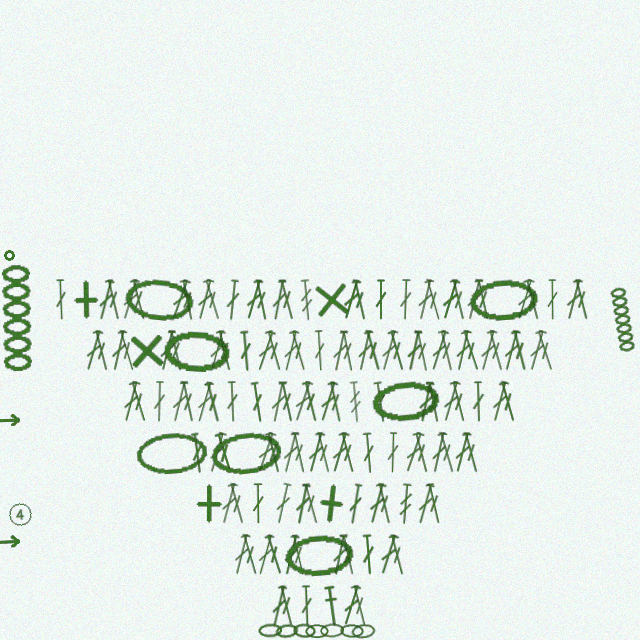chain: (209, 429, 283, 477), (123, 276, 196, 323), (135, 430, 209, 476), (370, 378, 442, 425), (283, 532, 356, 578), (468, 277, 540, 322), (162, 329, 232, 373), (351, 623, 376, 639), (275, 623, 299, 639), (258, 623, 282, 638), (320, 623, 344, 638), (293, 623, 316, 638), (305, 624, 329, 638), (340, 624, 364, 638)
double: (253, 431, 279, 474), (401, 431, 427, 474), (290, 380, 316, 423), (458, 329, 484, 372), (532, 329, 558, 372), (167, 278, 193, 321), (339, 584, 364, 627), (376, 533, 401, 576), (212, 431, 237, 474), (126, 380, 151, 423), (81, 329, 106, 372), (118, 278, 143, 321), (200, 278, 225, 321), (339, 278, 364, 321), (438, 278, 463, 321), (253, 330, 278, 372), (238, 533, 262, 576), (262, 533, 286, 576), (217, 482, 241, 525), (225, 482, 249, 525), (299, 482, 323, 525), (365, 482, 389, 525), (205, 431, 229, 474), (304, 431, 328, 474), (328, 431, 352, 474), (435, 431, 459, 474), (459, 431, 483, 474), (119, 380, 143, 423), (316, 380, 340, 423), (439, 380, 463, 423), (488, 380, 512, 423), (496, 380, 520, 423), (115, 329, 139, 372), (262, 329, 286, 372), (361, 329, 385, 372), (377, 329, 401, 372), (385, 329, 409, 372), (427, 329, 451, 372), (476, 329, 500, 372), (484, 329, 508, 372), (525, 329, 549, 372), (193, 278, 217, 321), (242, 278, 266, 321), (275, 278, 299, 321), (513, 278, 537, 321), (562, 278, 586, 321), (275, 584, 298, 627), (348, 584, 371, 627), (230, 533, 253, 576), (373, 482, 396, 525), (262, 431, 285, 474), (279, 431, 302, 474), (312, 431, 335, 474), (336, 431, 359, 474), (410, 431, 433, 474), (451, 431, 474, 474), (168, 380, 191, 423), (299, 380, 322, 423), (447, 380, 470, 423), (90, 329, 113, 372), (156, 329, 179, 372), (213, 329, 236, 372), (287, 329, 310, 372), (435, 329, 458, 372), (500, 329, 523, 372), (508, 329, 531, 372), (102, 278, 125, 321), (127, 278, 150, 321), (414, 278, 437, 321), (447, 278, 470, 321), (463, 278, 486, 321), (521, 278, 544, 321), (570, 278, 593, 321), (254, 534, 277, 576), (414, 483, 437, 525), (193, 381, 216, 423), (422, 279, 445, 321), (337, 533, 359, 576), (272, 482, 294, 525), (423, 482, 445, 525), (288, 431, 310, 474), (428, 431, 450, 474), (177, 380, 199, 423), (276, 380, 298, 423), (108, 329, 130, 372), (165, 329, 187, 372), (354, 329, 376, 372), (403, 329, 425, 372), (452, 329, 474, 372), (472, 278, 494, 321), (268, 585, 290, 627), (280, 534, 302, 576), (386, 534, 408, 576), (202, 381, 224, 423), (415, 381, 437, 423), (206, 330, 228, 372), (280, 330, 302, 372), (329, 330, 351, 372), (411, 330, 433, 372), (95, 279, 117, 321), (288, 534, 309, 576), (329, 534, 350, 576), (292, 483, 313, 525), (268, 381, 289, 423), (325, 381, 346, 423), (423, 381, 444, 423), (337, 330, 358, 372), (177, 279, 198, 321), (251, 279, 272, 321), (349, 279, 370, 321), (269, 279, 289, 321), (346, 483, 365, 525), (248, 381, 267, 423), (371, 381, 390, 423), (188, 432, 206, 474), (224, 279, 242, 321), (360, 432, 377, 474), (237, 330, 254, 372), (360, 534, 377, 575), (299, 585, 314, 626), (152, 381, 167, 422), (225, 381, 240, 422), (471, 381, 486, 422), (312, 330, 327, 371), (398, 279, 413, 320), (251, 483, 265, 524), (386, 432, 400, 473), (54, 279, 68, 320), (374, 279, 388, 320), (546, 279, 559, 320)
enseble_chain: (0, 264, 36, 375), (608, 286, 637, 354)
half_double: (321, 585, 342, 627)
noise: (6, 500, 35, 529), (0, 535, 22, 548), (0, 414, 22, 426), (3, 249, 15, 261)
single: (309, 481, 354, 526), (309, 277, 354, 322), (125, 329, 168, 372), (188, 483, 229, 524), (65, 279, 106, 320)
treble: (397, 483, 414, 525), (347, 381, 364, 423), (298, 279, 315, 321)
